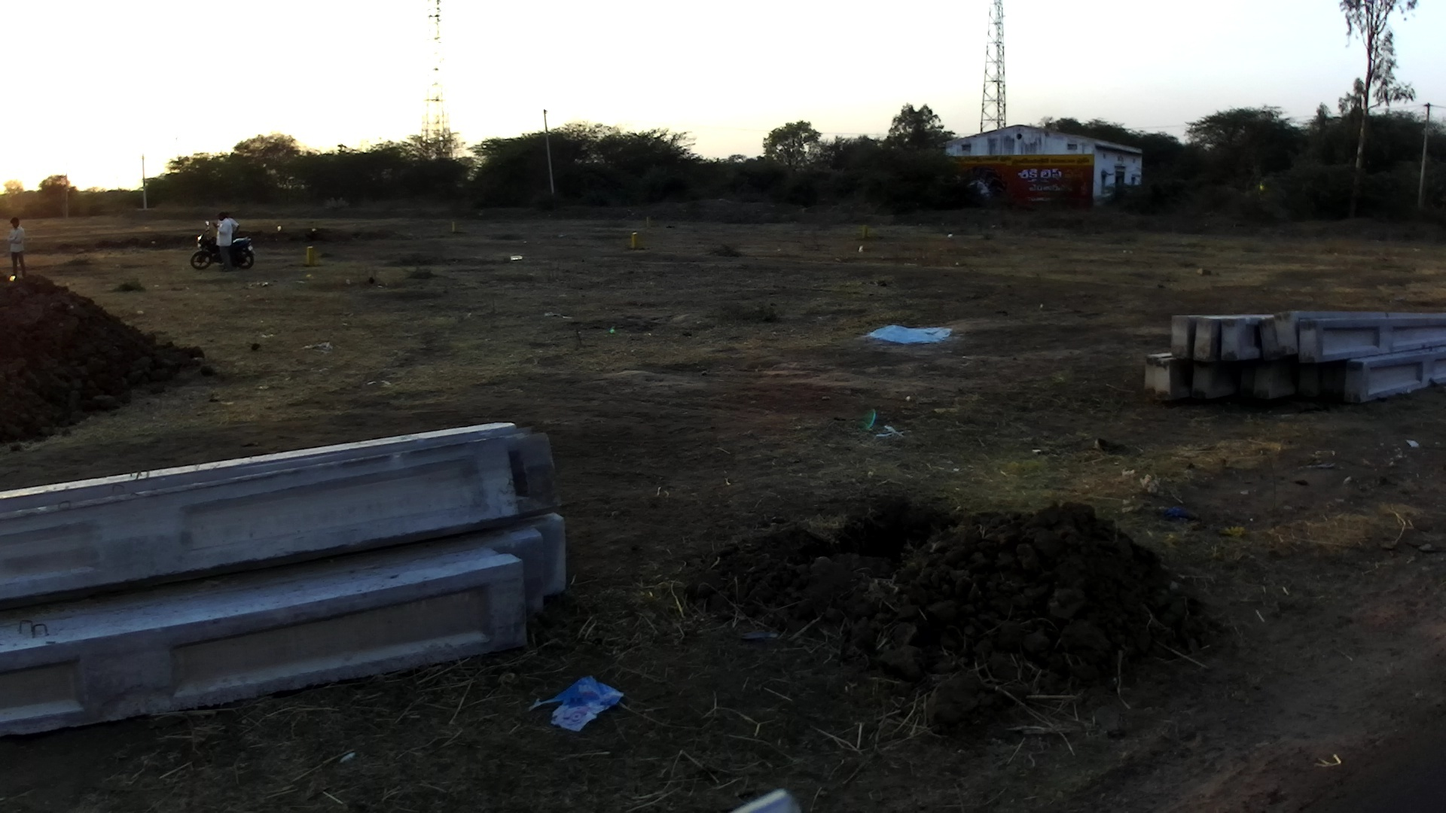motorcycle: (190, 220, 256, 269)
person: (212, 214, 235, 276), (8, 217, 25, 282), (223, 210, 241, 236)
